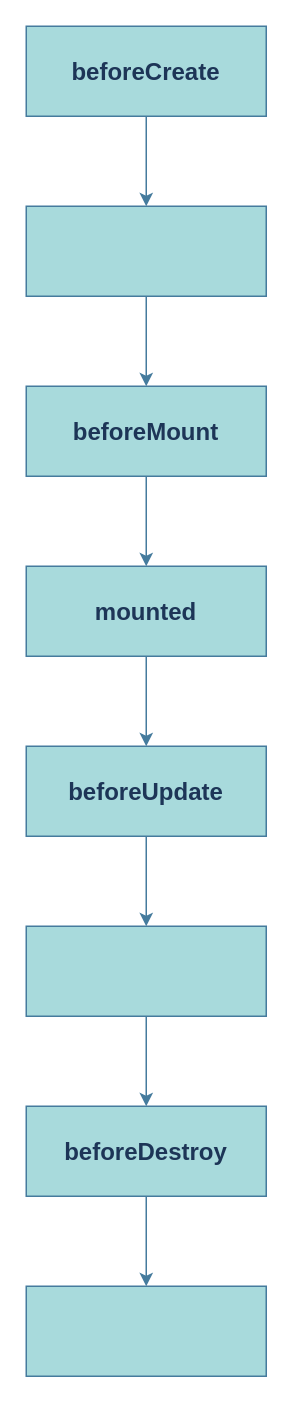
Some shapes in this 293 by 1403 pixel diagram are drawn without their labels. The centre of each missing label's shape, as x and y in pixels:
created: (145,250)
destroyed: (145,1330)
updated: (145,970)
